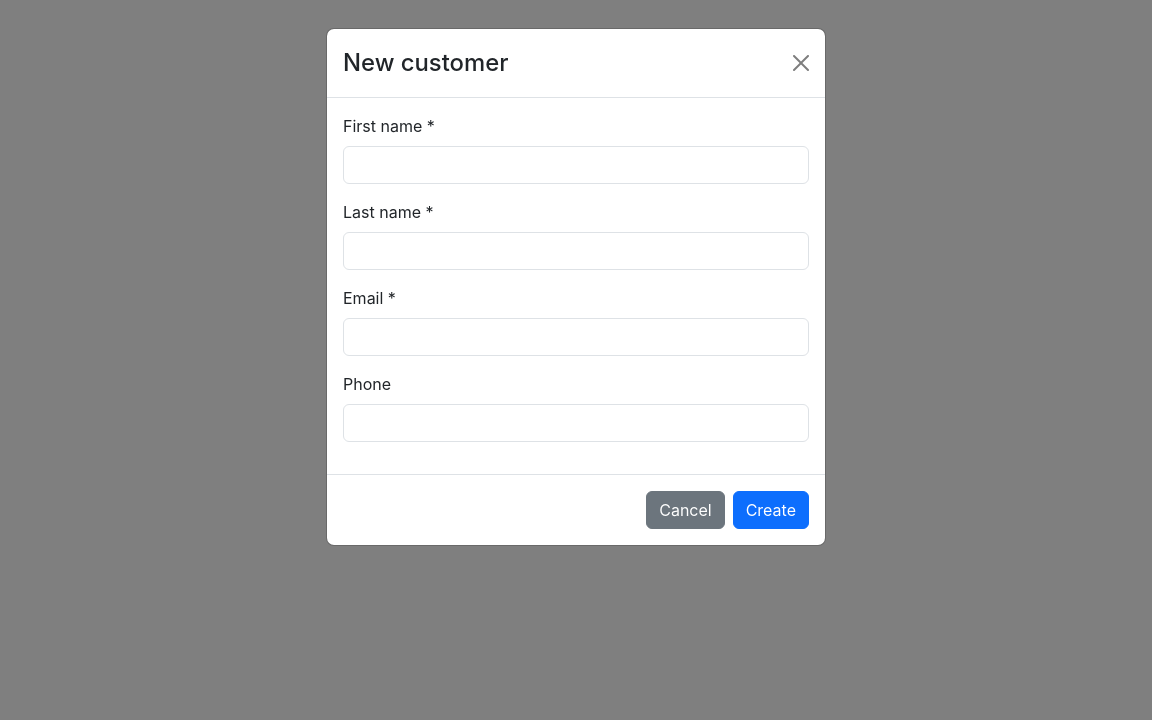
CustomerFormModal › shows a validation error when first name is empty
Click the button with test id "btn-modal-save" at (771, 510), box [733, 491, 809, 529]
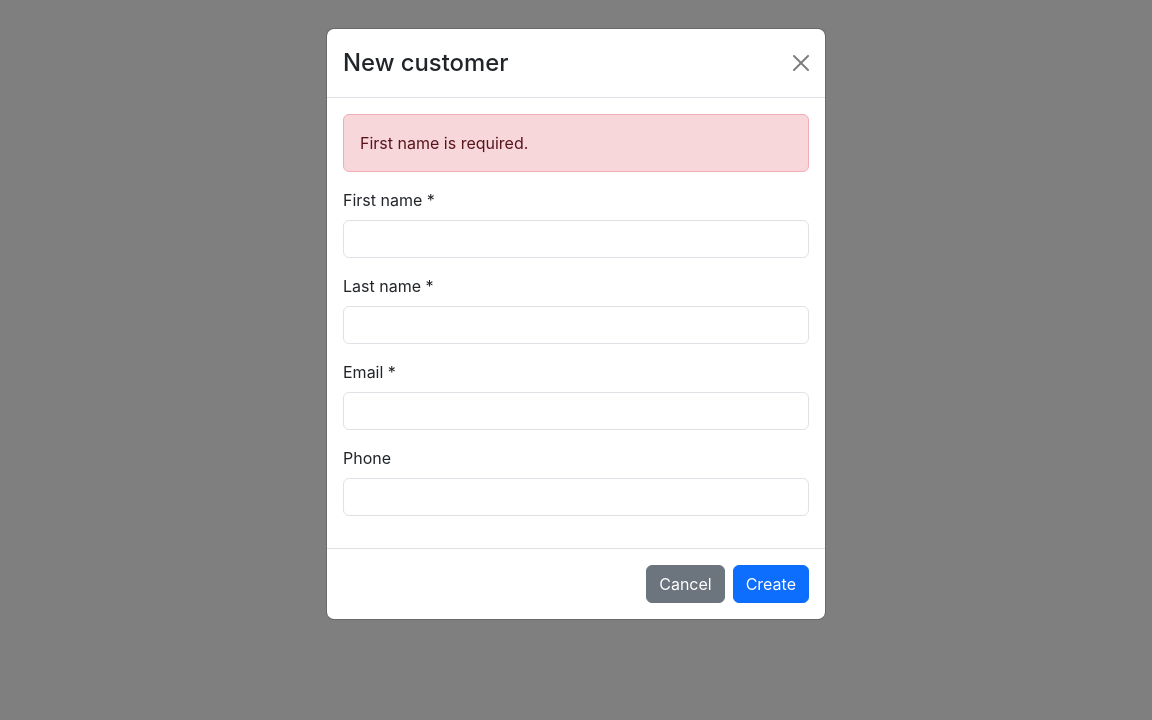
Result: the text "First name is required." is shown at [343, 114, 809, 172]
